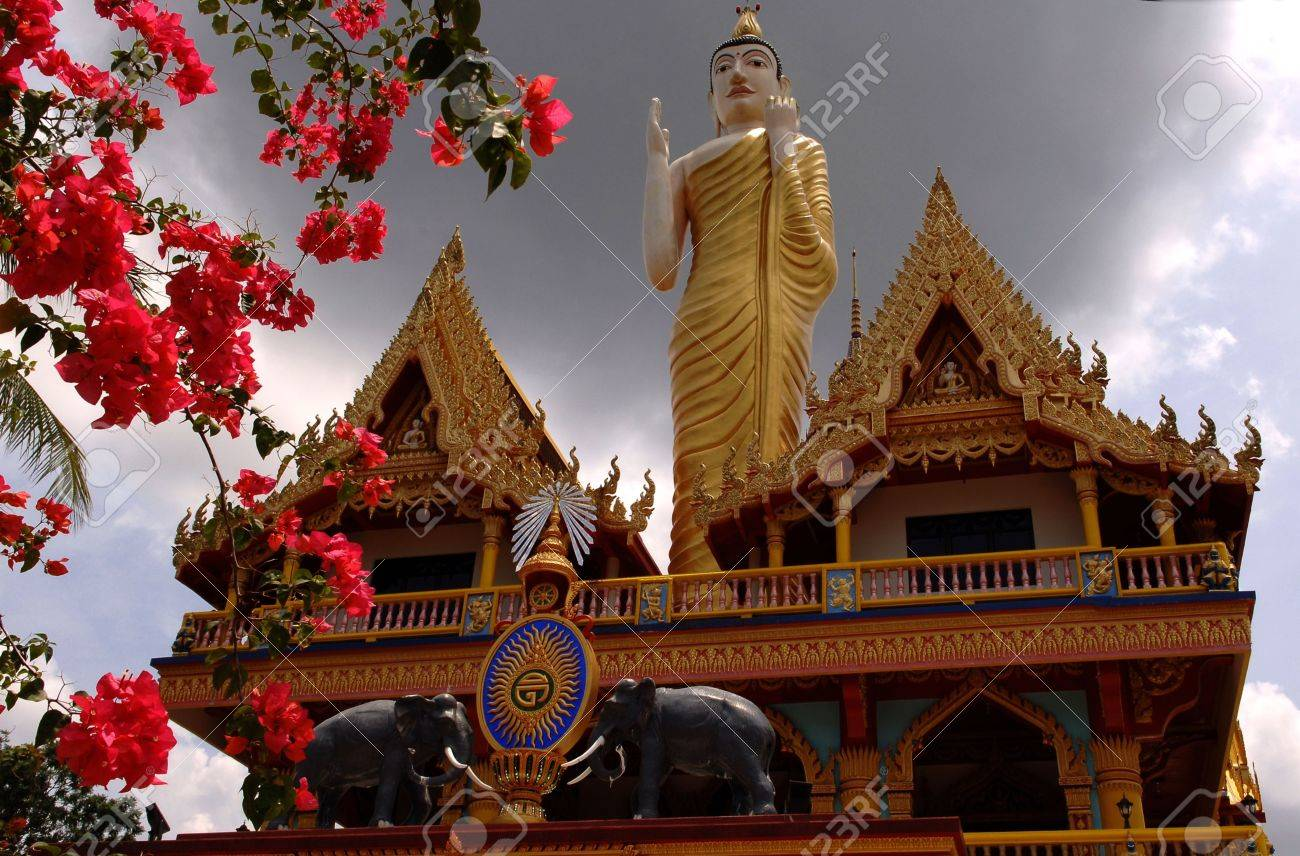Buddhist Temple: (195, 19, 1187, 819)
